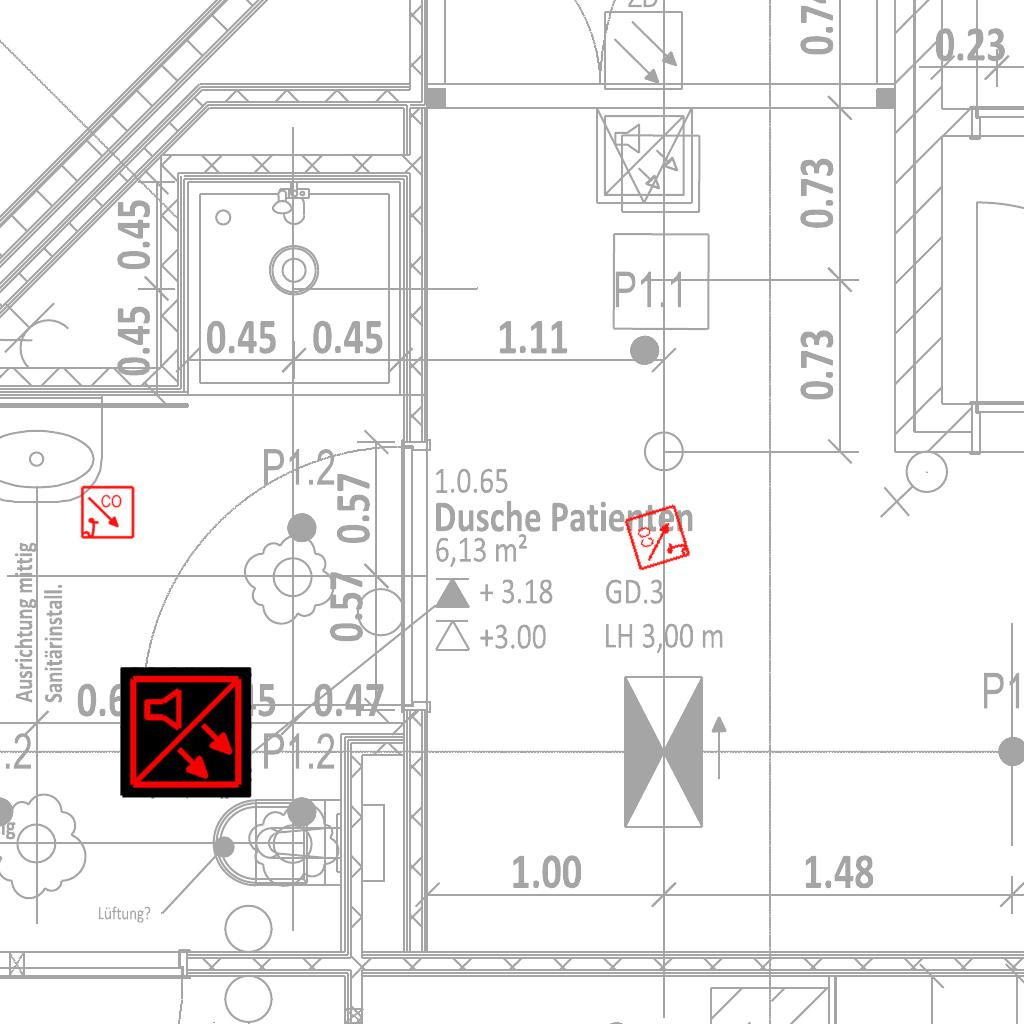OKW_Multisensormelder_(Kombination_optischer_Rauch-Kahlenmonoxid_Waerme-Melder): (120, 667, 252, 799)
ROA_Rauchmelder_optisch_mit_Signalgeber_(Sockelsirene): (623, 502, 693, 572), (80, 485, 136, 541)
